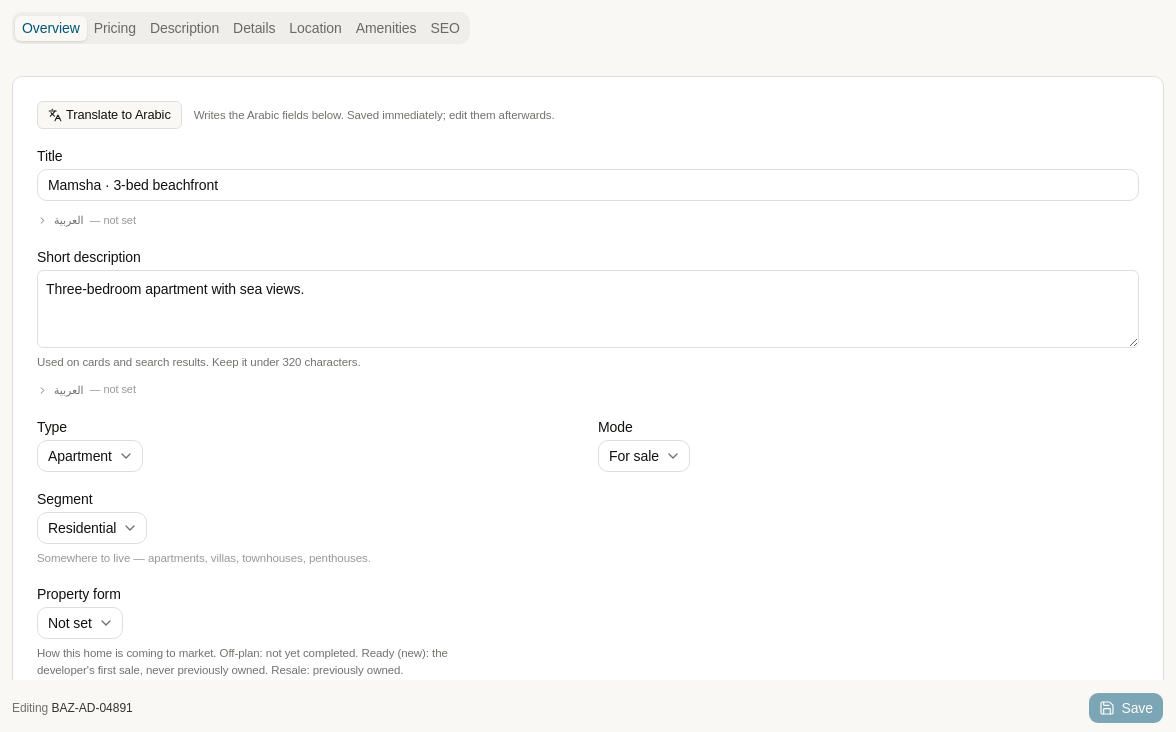
it: <PropertyEditForm> › refuses a duplicate rather than storing a second spelling
Click the tab "Amenities" at (386, 28), box [349,16,423,40]
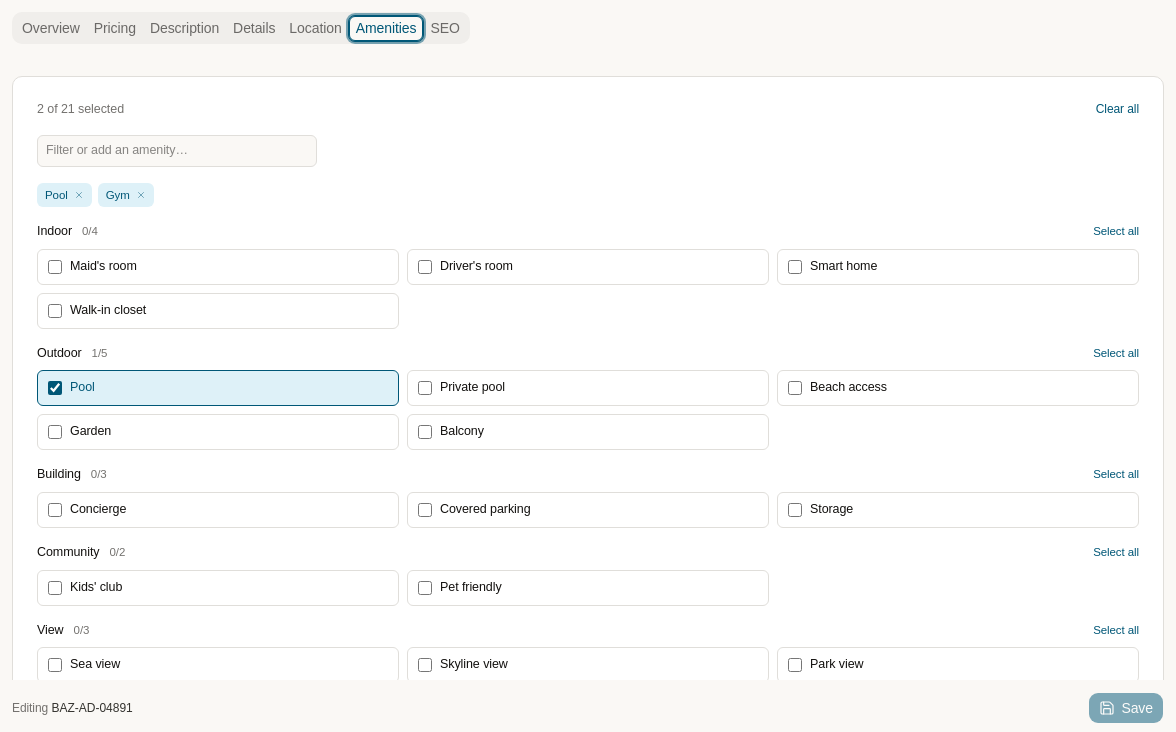
# "pool" is already selected — Enter must not submit the listing either.
Type "pool" into the search field named "filter amenities, or type one to add" at (177, 151), box [37,135,317,167]
Then press Enter
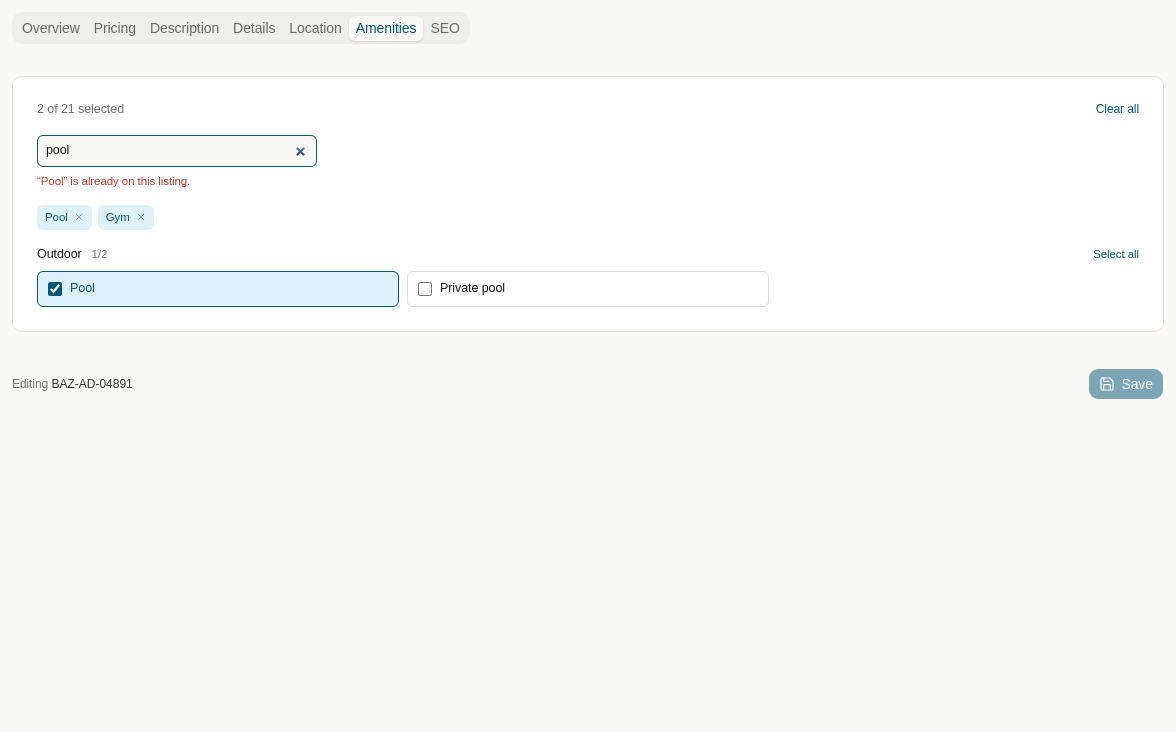
Expected: the text "“Pool” is already on this listing." is shown, [37,175,190,187]
